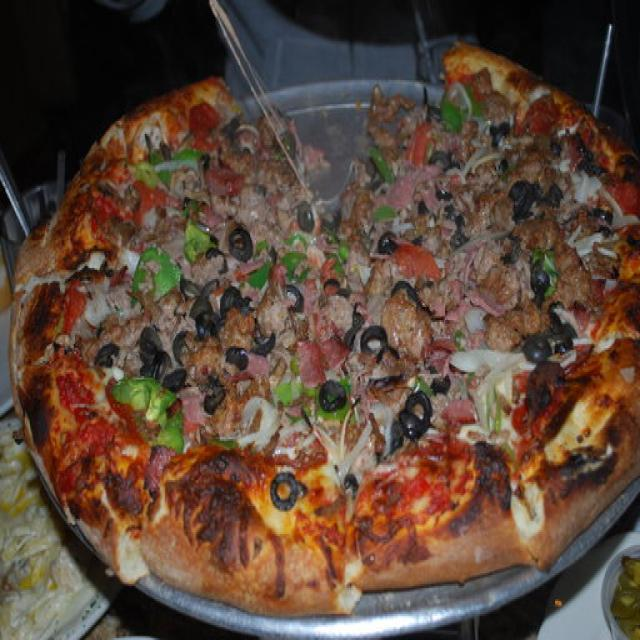Beef: (554, 245, 594, 309), (387, 296, 426, 357), (479, 264, 528, 306), (480, 74, 516, 120), (556, 254, 589, 304), (402, 99, 433, 147), (510, 302, 548, 334), (372, 89, 414, 117), (487, 314, 517, 351), (525, 221, 562, 250), (190, 344, 225, 374), (372, 126, 399, 157), (222, 316, 254, 342), (488, 203, 514, 233), (518, 149, 540, 172)
Green Pepper: (115, 380, 178, 420), (135, 249, 181, 299), (144, 152, 200, 184), (183, 223, 213, 259), (157, 417, 185, 452), (441, 88, 460, 130), (282, 255, 312, 278), (272, 382, 308, 401), (252, 263, 270, 289), (371, 207, 399, 223), (465, 84, 481, 112), (286, 236, 310, 252), (340, 246, 351, 278), (254, 242, 269, 254)
Ham: (454, 254, 501, 316), (298, 341, 328, 385), (206, 164, 244, 197), (179, 389, 207, 431), (318, 341, 347, 372), (444, 404, 479, 426), (247, 356, 272, 382), (426, 343, 451, 367), (392, 181, 414, 204), (165, 196, 186, 214), (203, 205, 224, 222), (424, 191, 439, 214), (421, 166, 438, 186)
Olives: (139, 325, 195, 397), (509, 175, 567, 226), (516, 325, 580, 363), (390, 402, 438, 446), (392, 282, 442, 320), (190, 281, 220, 340), (361, 321, 399, 366), (317, 379, 354, 415), (205, 238, 238, 278), (445, 206, 472, 253), (270, 470, 298, 514), (226, 285, 254, 322), (229, 342, 255, 378), (235, 228, 253, 278), (281, 278, 306, 314), (492, 125, 524, 153), (291, 198, 320, 228), (94, 344, 125, 372), (336, 312, 364, 343), (204, 371, 227, 406), (594, 205, 616, 241), (366, 229, 401, 250), (491, 229, 515, 259), (251, 324, 279, 349), (529, 275, 552, 302), (434, 368, 453, 397), (370, 159, 383, 199), (432, 152, 457, 170)
Onions: (238, 399, 275, 464), (322, 426, 370, 475), (461, 127, 486, 183), (454, 352, 528, 368), (572, 172, 598, 202)
Pizza: (14, 45, 640, 618)
Tomato: (395, 242, 443, 278), (189, 102, 217, 145), (410, 120, 430, 171)
